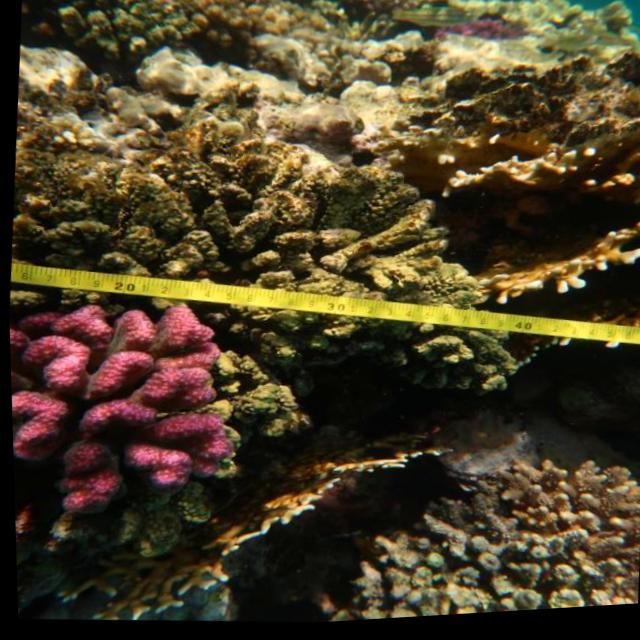Healthy Coral: (7, 285, 244, 527)
